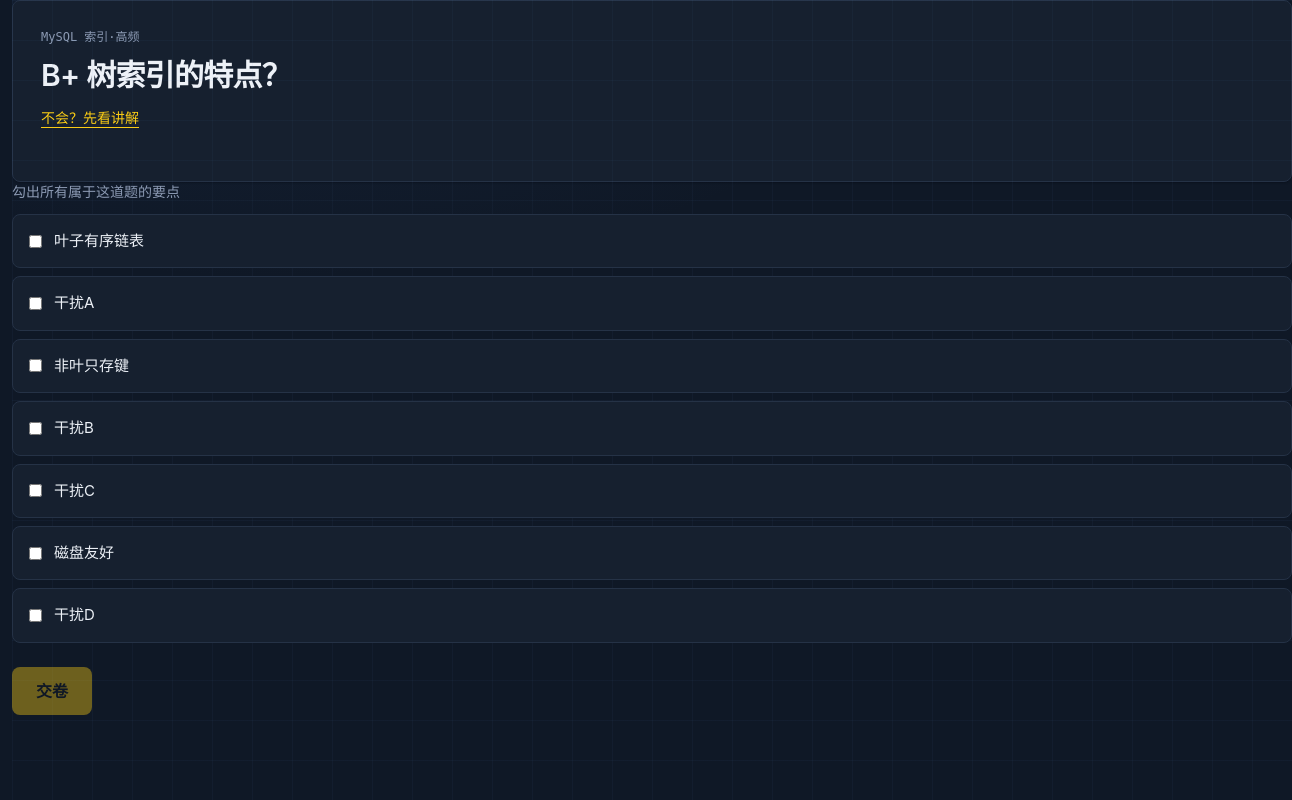
先学后练：默认不显示讲解，点「先看讲解」展开题解（不会的用户先学再答）
This screenshot has width=1292, height=800.
Expected: the text "B+ 树是为磁盘存储优化" is not shown
Click the button "不会？先看讲解": click(90, 118) [41,108,139,128]
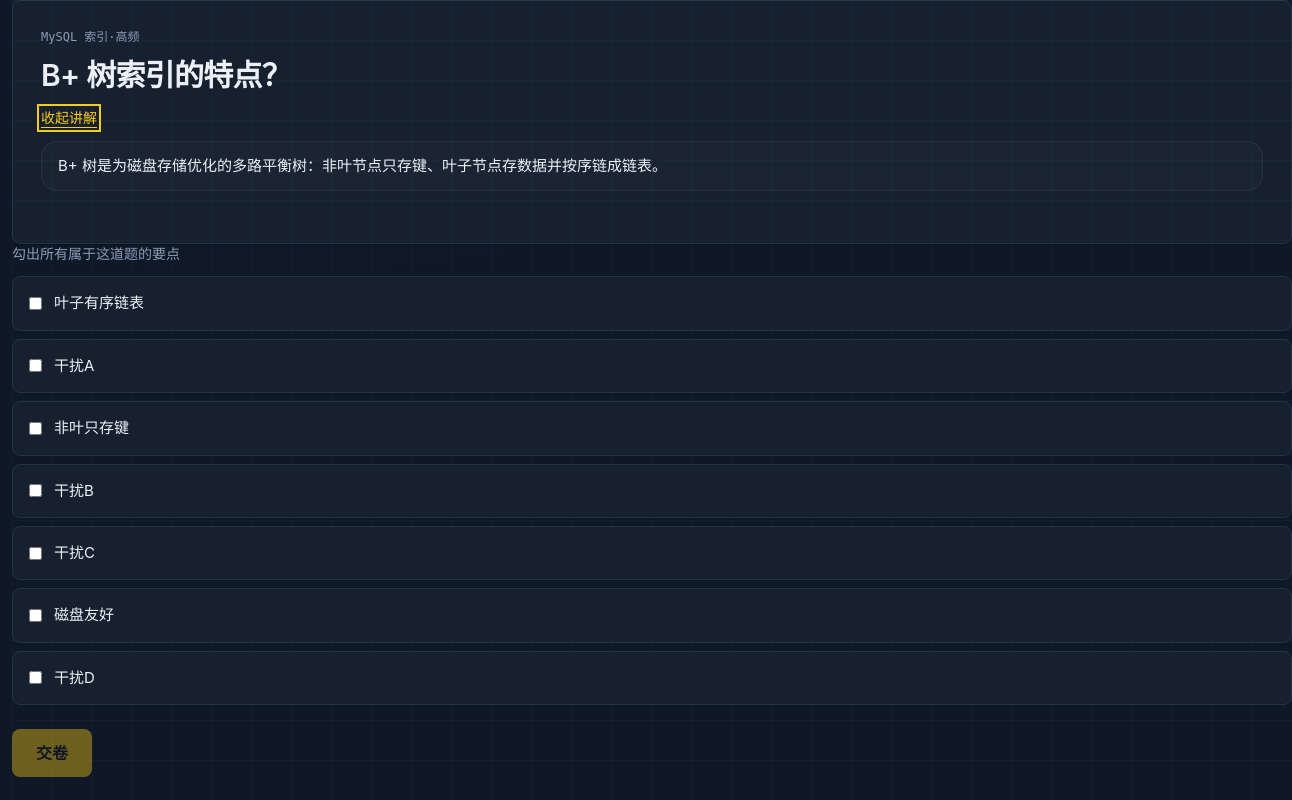
Now the text "B+ 树是为磁盘存储优化的多路平衡树：非叶节点只存键、叶子节点存数据并按序链成链表。" is shown, box [58,156,667,175]
Click the button "收起讲解": click(69, 118) [41,108,97,128]
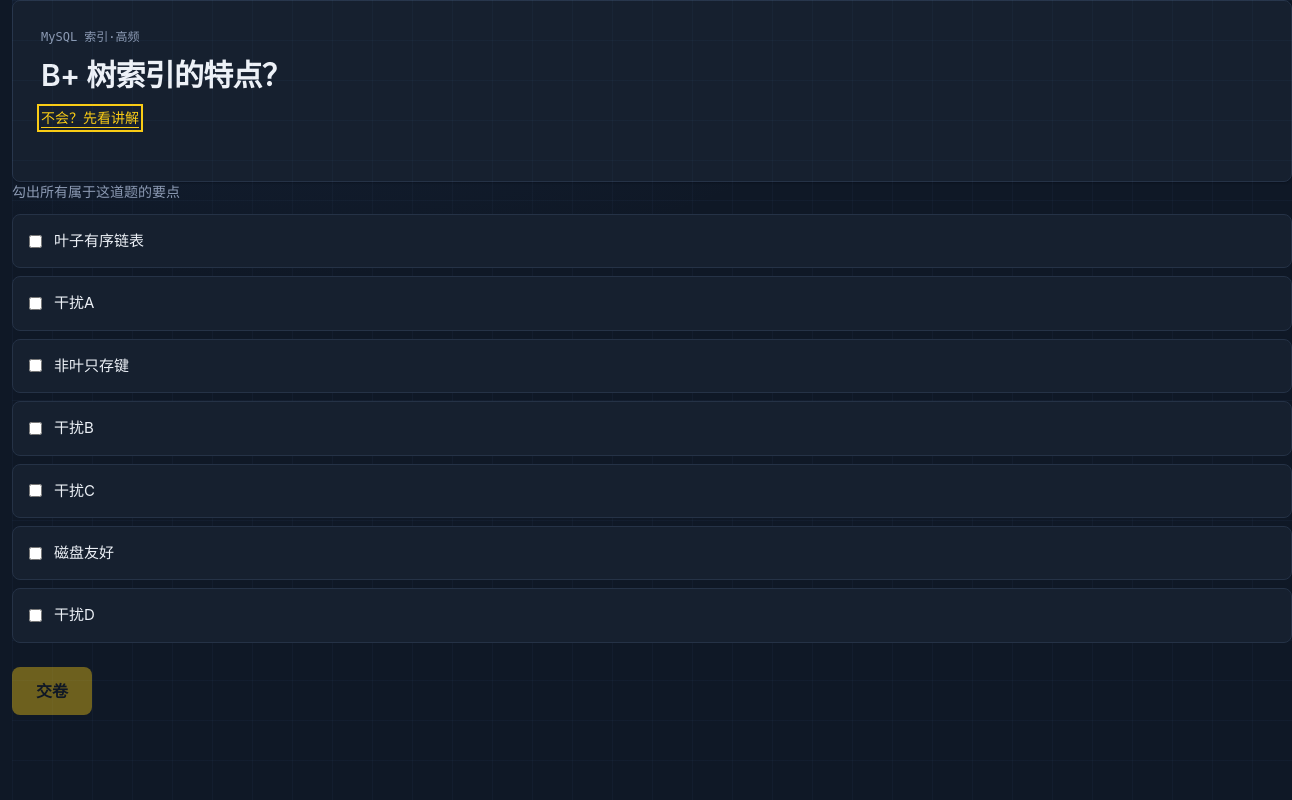
Now the text "B+ 树是为磁盘存储优化" is gone
